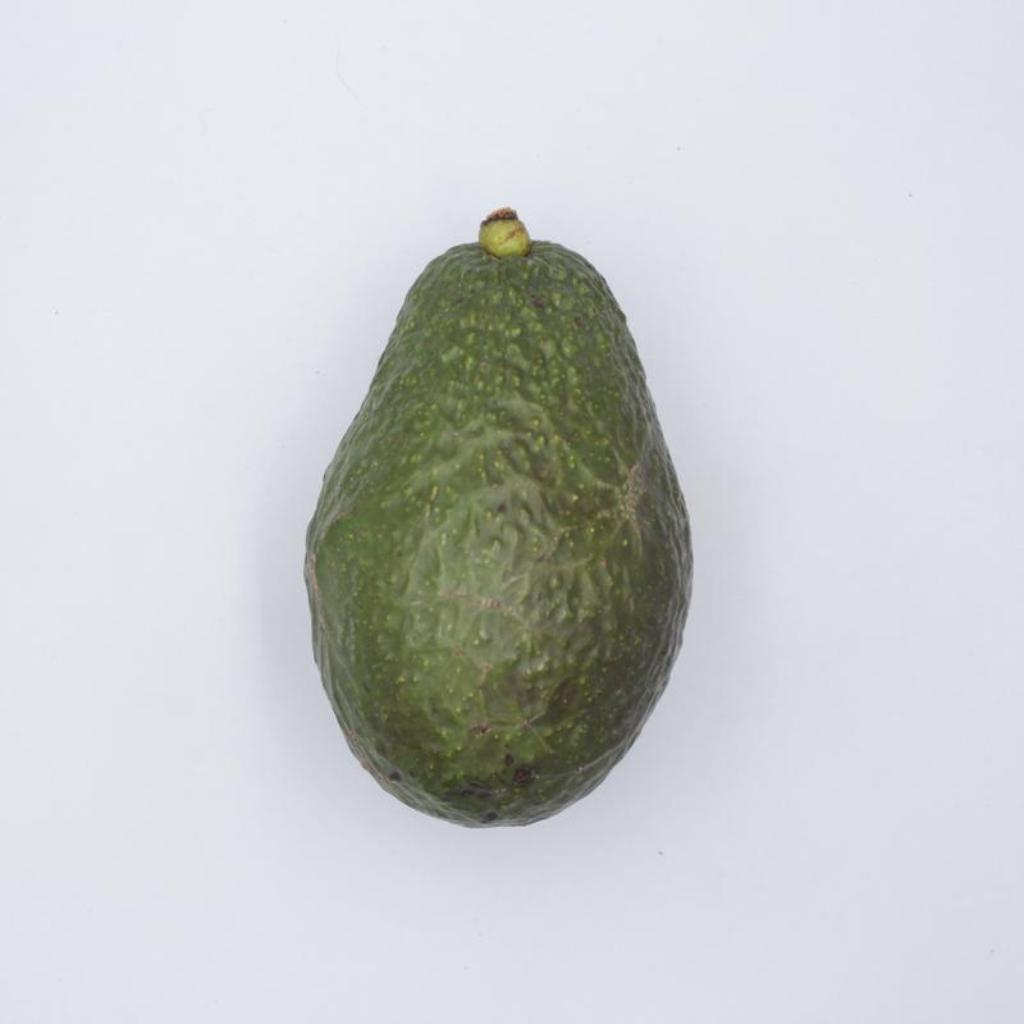rona: (305, 209, 691, 826)
